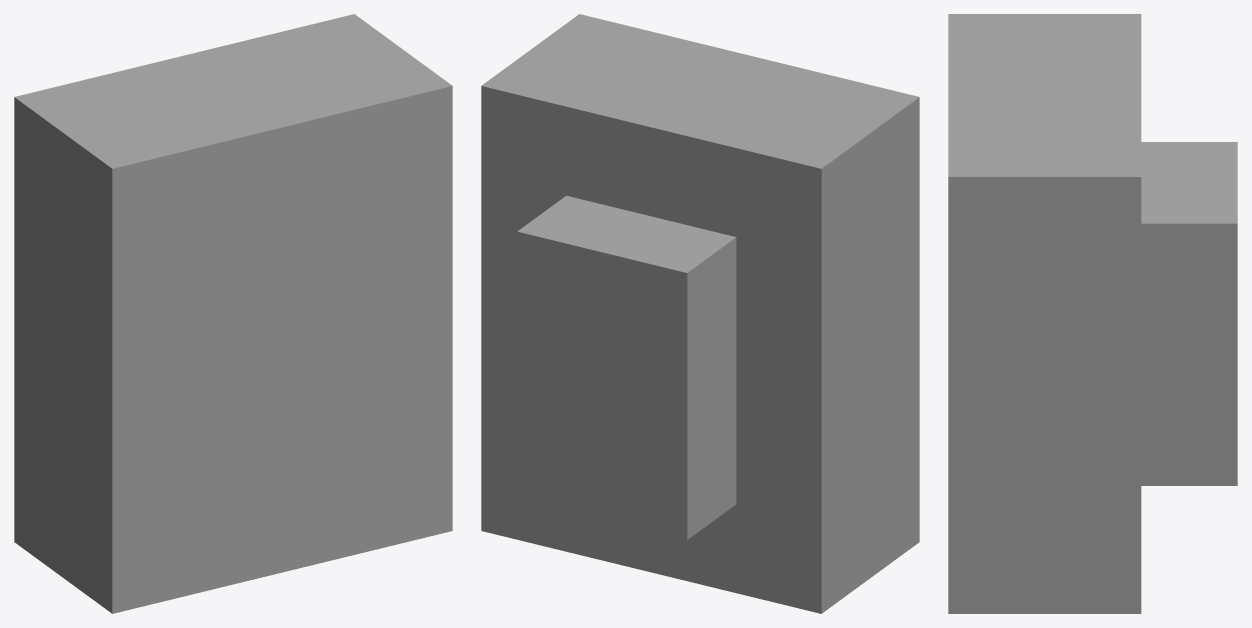
File: DoorIndicator.gltf
3 views of the same model, side by side, from view 1: azimuth 30°, elevation 25°; view 2: azimuth 150°, elevation 25°; view 3: azimuth 270°, elevation 25° (orthographic).
Visible parts, largest first — view 1: cube (×5); view 2: cube (×5); view 3: cube (×3).
Boxes of the visible parts, x1,y1,x2,y2 form: cube (×5): [14, 14, 452, 613]; cube (×5): [481, 14, 919, 613]; cube (×3): [948, 14, 1237, 613].
Bounding box in the file's own units: 0.25 × 0.3125 × 0.1875.
1 material, 1 textured.
